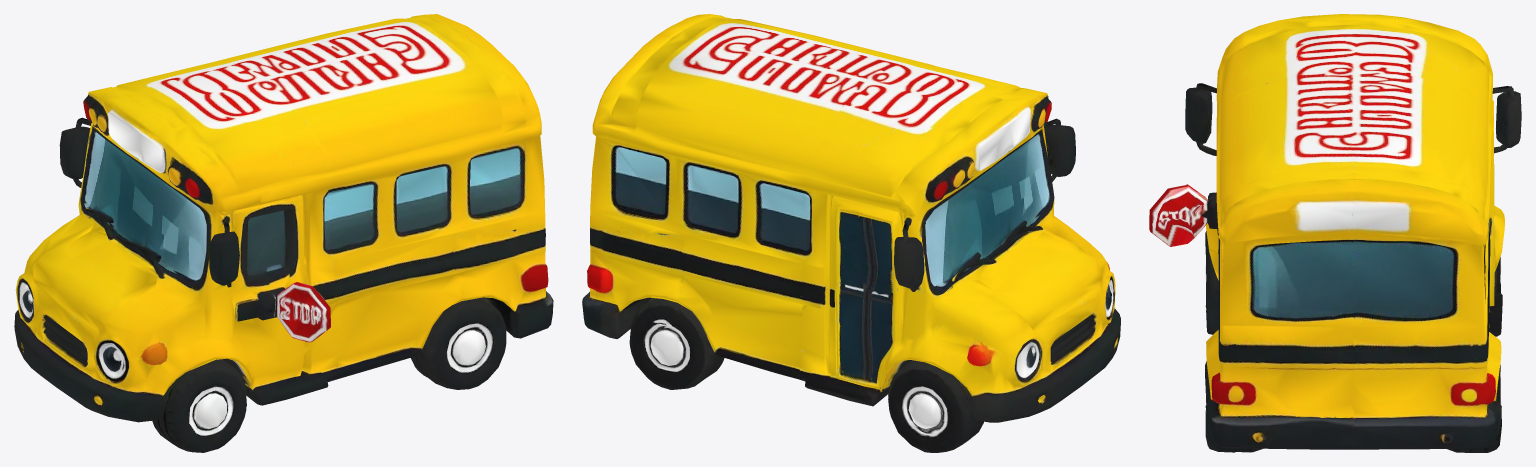
Rendered from bus.glb.
3 views of the same model, side by side, from view 1: azimuth 30°, elevation 25°; view 2: azimuth 150°, elevation 25°; view 3: azimuth 270°, elevation 25° (orthographic). The views are drawn at different scales.
Bounding box in the file's own units: 1.9 × 1.2 × 1.33.
1 material, 1 textured.
